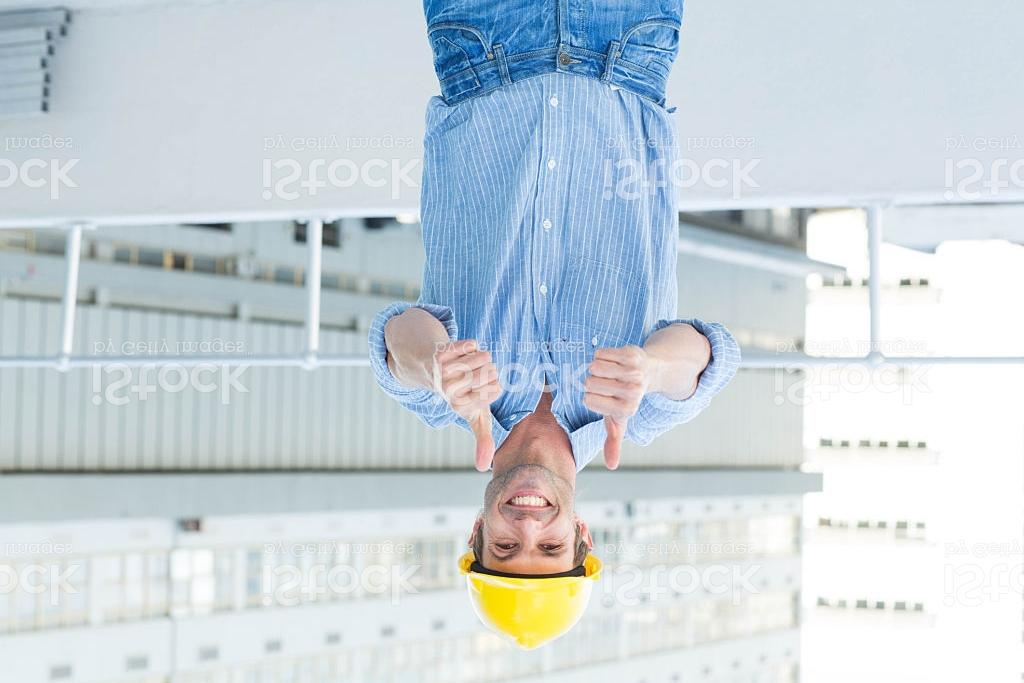thumbsdown: (433, 338, 503, 472), (579, 343, 648, 470)
